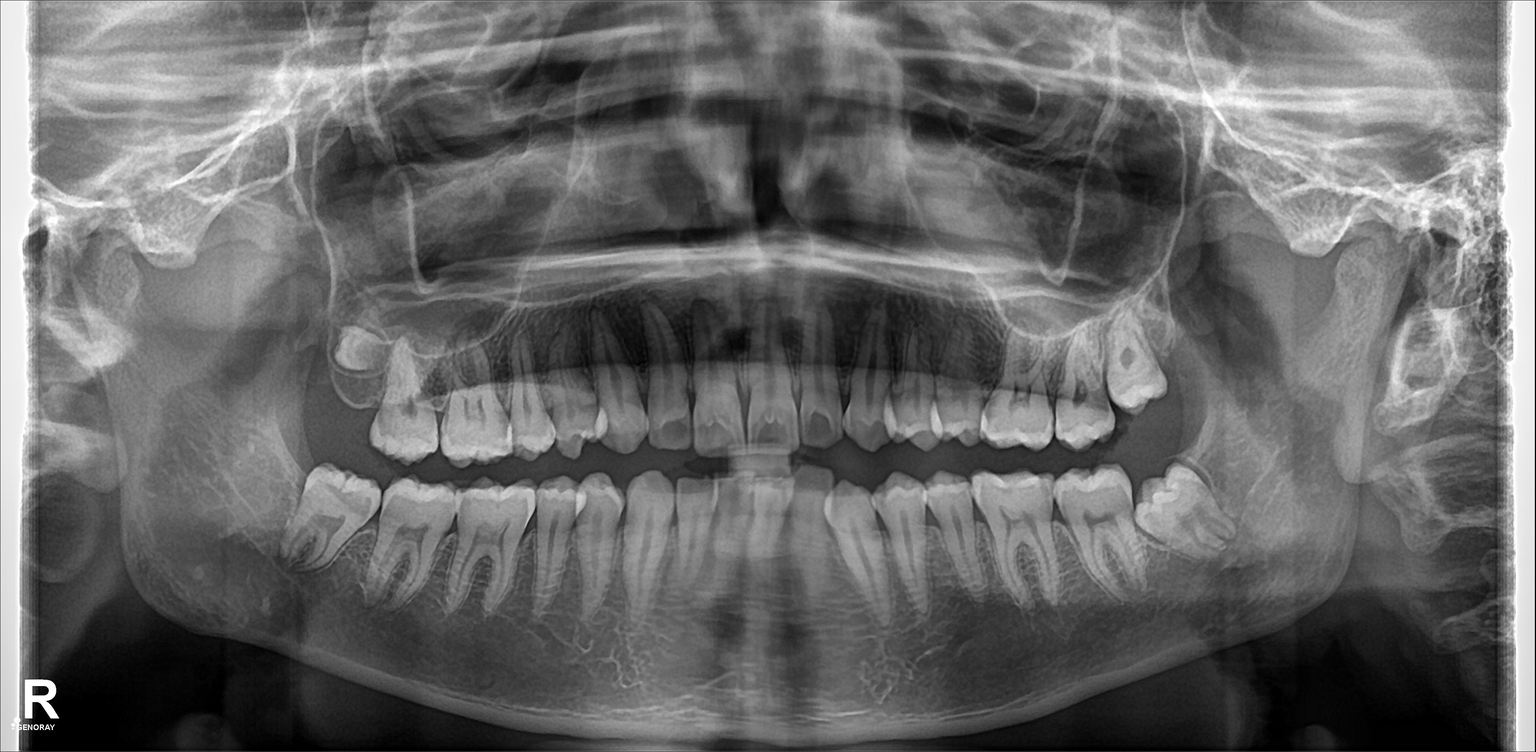Dental Caries: (805, 406, 836, 436), (758, 415, 788, 444)
Impacted Third Molar: (1147, 465, 1231, 554), (330, 316, 395, 374)
